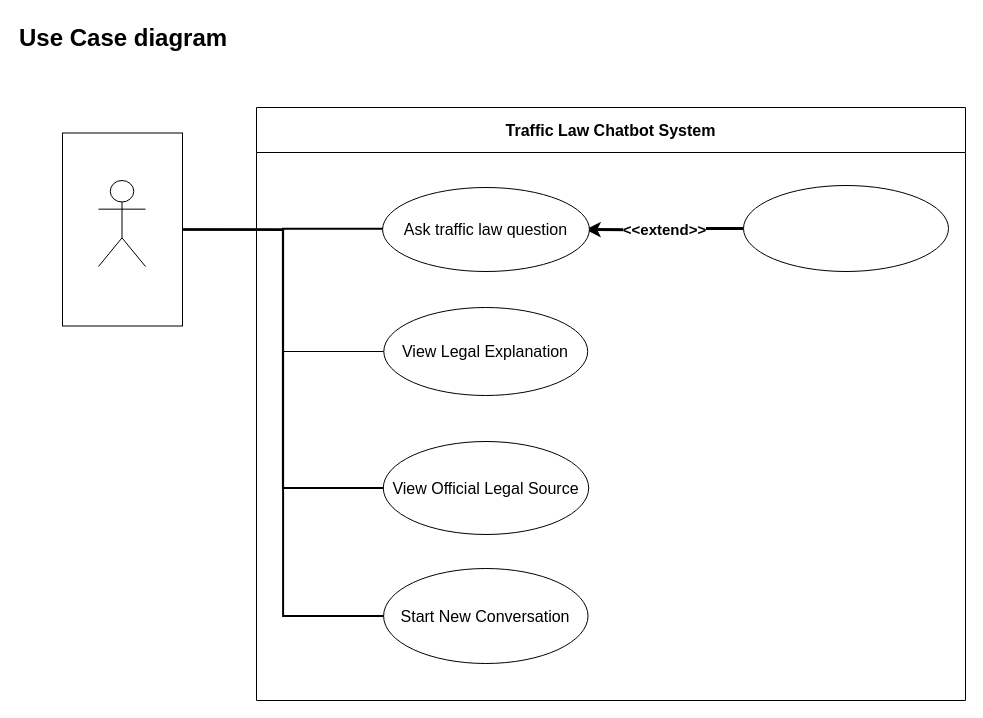
Some shapes in this 983 by 718 pixel diagram are drawn without their labels. Here are the shapes that lost their labels. From the top down, the centre of each, then its label:
At [122,223]: "User".
At [845,228]: "Provide Additional Details".
